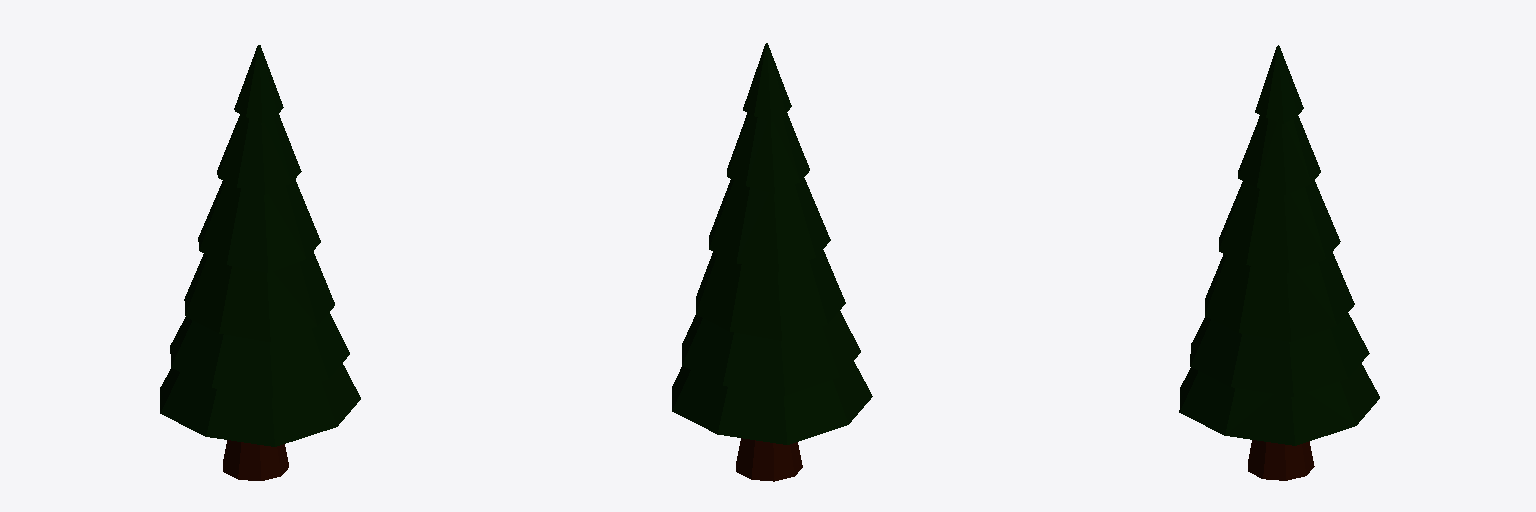
Rendered from lowpolytree.obj.
3 views of the same model, side by side, from view 1: azimuth 30°, elevation 25°; view 2: azimuth 150°, elevation 25°; view 3: azimuth 270°, elevation 25° (orthographic).
Parts seen in each view (by area): view 1: Cylinder.016_Cylinder.006; view 2: Cylinder.016_Cylinder.006; view 3: Cylinder.016_Cylinder.006.
Boxes of the visible parts, x1,y1,x2,y2 form: Cylinder.016_Cylinder.006: [160, 45, 360, 480]; Cylinder.016_Cylinder.006: [672, 43, 872, 481]; Cylinder.016_Cylinder.006: [1179, 45, 1379, 480].
Size of the model in its own units: 7.84 by 17.91 by 7.74.